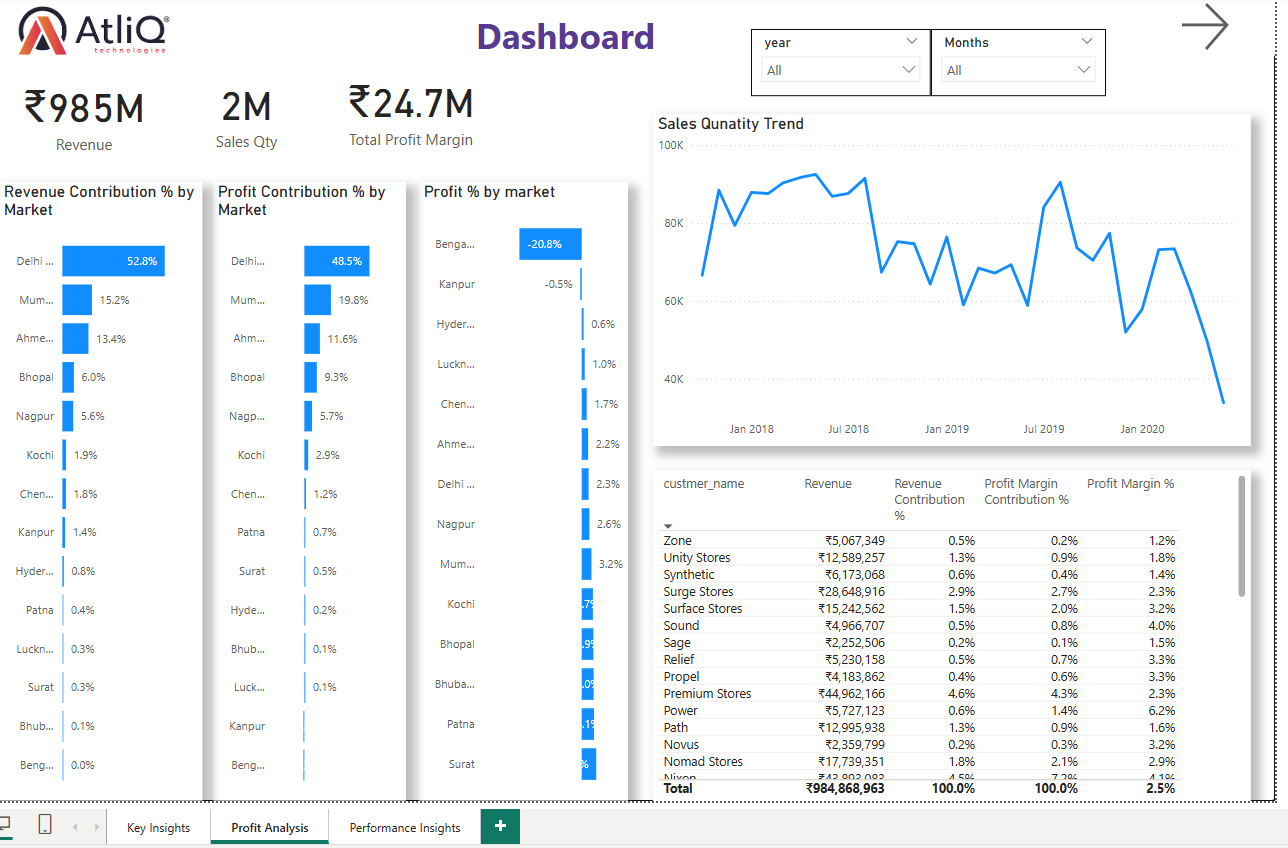

The dashboard page shown, as its layout file describes it:
{"tool":"powerbi","page":{"name":"Profit Anaysis","canvas":[1350,850],"ordinal":2},"visuals":[{"type":"card","fields":{"Values":["BaseMeasures (2).Revenue"]},"box":[0,99.4,179.7,120.5],"z":0},{"type":"card","fields":{"Values":["BaseMeasures (2).Sales Qty"]},"box":[161.8,97.3,163.9,123.7],"z":1000},{"type":"slicer","fields":{"Values":["sales date.year"]},"box":[877.5,79.3,160.7,65.5],"z":2000},{"type":"slicer","fields":{"Values":["sales date.cy_date"]},"box":[1048.8,79.3,175.5,66.6],"z":3000},{"type":"tableEx","title":"Top 5 Customers","fields":{"Values":["sales customers.custmer_name","BaseMeasures (2).Revenue","BaseMeasures (2).Revenue Contribution %","BaseMeasures (2).Profit Margin Contribution %","BaseMeasures (2).Profit Margin %"]},"box":[651.4,457.3,698.8,392.3],"z":4000},{"type":"lineClusteredColumnComboChart","title":"Revenue Trend","fields":{"Category":["sales date.cy_date"],"Y":["BaseMeasures (2).Revenue LY","BaseMeasures (2).Revenue"],"Y2":["BaseMeasures (2).Profit Margin %"]},"box":[651.4,161,672,281.8],"z":5000},{"type":"card","fields":{"Values":["BaseMeasures (2).Total Profit Margin"]},"box":[325.6,92,160.7,132.2],"z":6000},{"type":"barChart","title":"Revenue Contribution % by Market","fields":{"Y":["BaseMeasures (2).Profit Margin %"],"Category":["sales markets.markets_name"]},"box":[11,219.7,599.4,630.3],"z":7000},{"type":"slicer","fields":{"Values":["Profit Target.Profit Target"]},"box":[718.6,58.5,151.2,86.1],"z":8000},{"type":"textbox","box":[458.8,3.2,215.7,98.3],"z":9000},{"type":"image","box":[0,0,196.6,84.6],"z":10000},{"type":"actionButton","box":[1249.6,3.2,100.4,55],"z":11000}]}

Visuals, with their boxes on the page's 1350x850 design canvas (x1, y1, x2, y2). These are canvas units, not pixel positions in the 1288x848 screenshot, which may show the page scaled, cropped or inside an application window:
card - BaseMeasures (2).Revenue: 0, 99, 180, 220
card - BaseMeasures (2).Sales Qty: 162, 97, 326, 221
slicer - sales date.year: 878, 79, 1038, 145
slicer - sales date.cy_date: 1049, 79, 1224, 146
"Top 5 Customers" tableEx: 651, 457, 1350, 850
"Revenue Trend" lineClusteredColumnComboChart: 651, 161, 1323, 443
card - BaseMeasures (2).Total Profit Margin: 326, 92, 486, 224
"Revenue Contribution % by Market" barChart: 11, 220, 610, 850
slicer - Profit Target.Profit Target: 719, 58, 870, 145
textbox: 459, 3, 674, 102
image: 0, 0, 197, 85
actionButton: 1250, 3, 1350, 58
